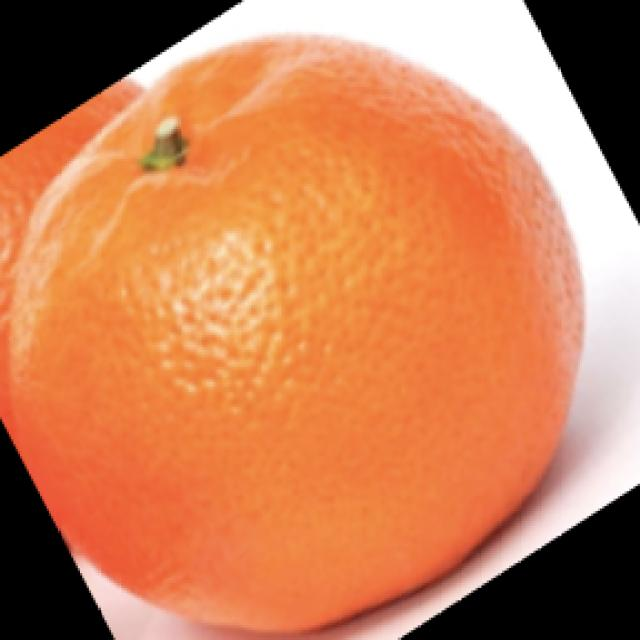orange: (13, 15, 612, 632)
